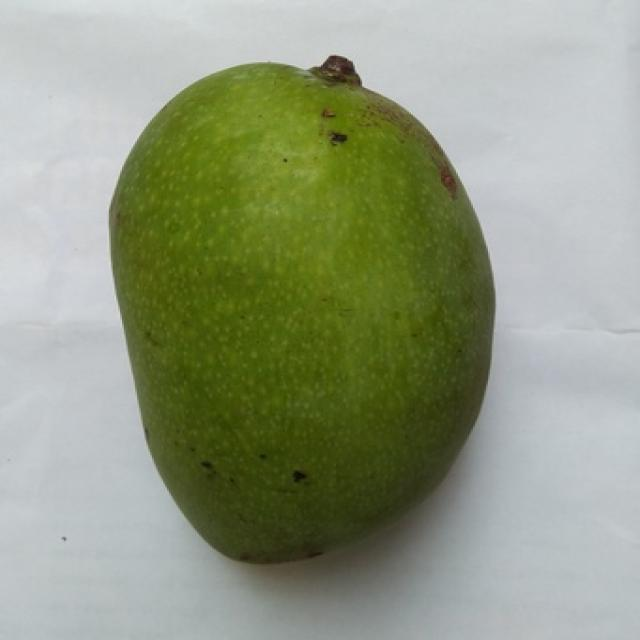Mango: (111, 64, 494, 561)
